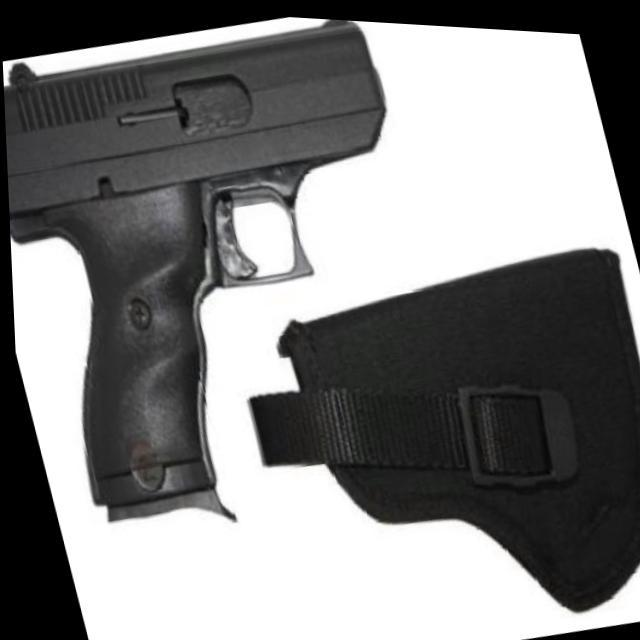weapon: (0, 0, 481, 562), (213, 213, 640, 640)
